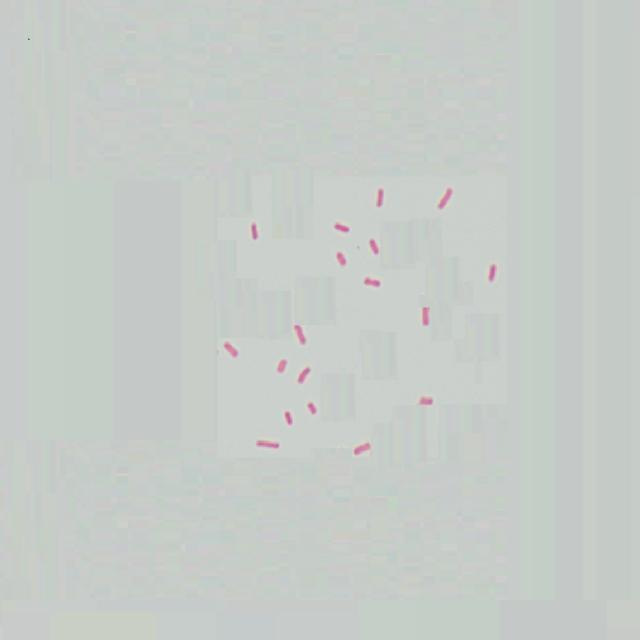E-coli: (253, 433, 282, 455), (434, 185, 456, 211), (221, 335, 241, 363), (291, 321, 309, 349), (349, 440, 374, 459), (419, 303, 434, 333), (294, 364, 313, 386), (367, 235, 383, 261), (272, 353, 288, 379), (331, 218, 350, 238), (373, 184, 386, 213), (336, 246, 351, 270), (418, 391, 436, 411), (485, 261, 500, 284), (364, 274, 382, 291), (307, 399, 320, 420), (249, 220, 261, 241), (285, 408, 296, 428)
